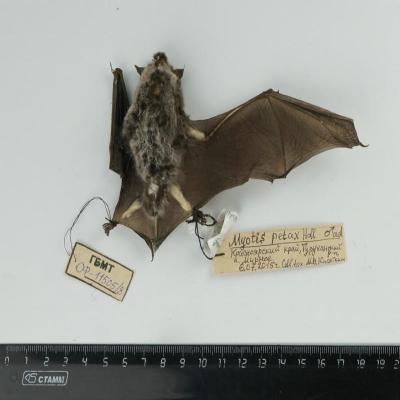natural_science_collection: (109, 53, 368, 251)
